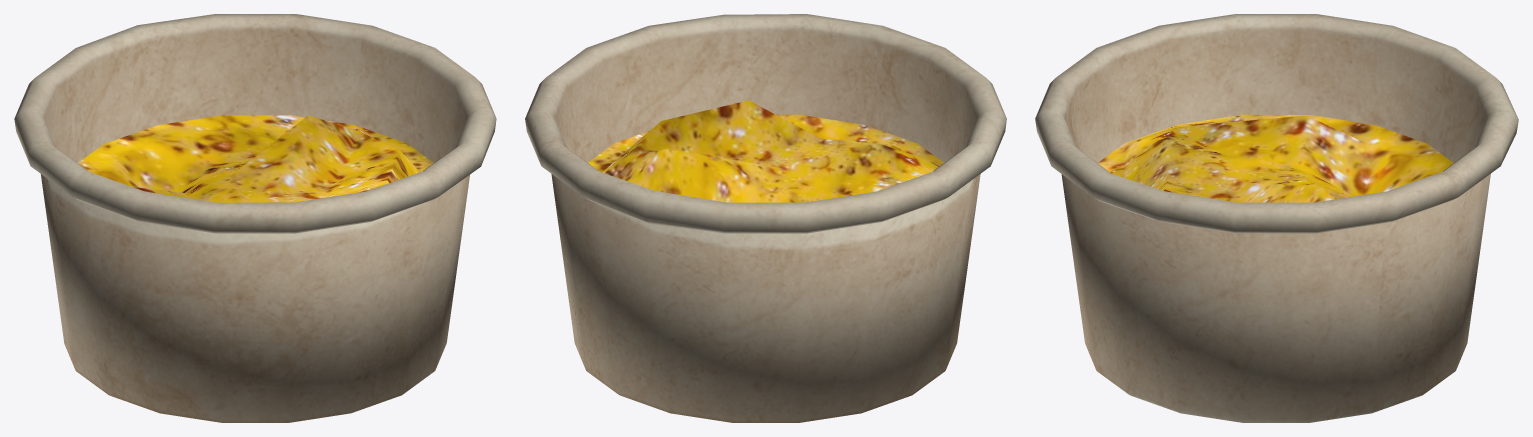
File: spicy_mustard.glb
3 renders of one model, left to right at view 1: azimuth 30°, elevation 25°; view 2: azimuth 150°, elevation 25°; view 3: azimuth 270°, elevation 25°, orthographic.
Parts seen in each view (by area): view 1: Sauce_ranch_sauceMaterial_0; view 2: Sauce_ranch_sauceMaterial_0; view 3: Sauce_ranch_sauceMaterial_0.
Part boxes in pixels (left/top/right/bottom): Sauce_ranch_sauceMaterial_0: left=14, top=14, right=496, bottom=422; Sauce_ranch_sauceMaterial_0: left=525, top=14, right=1006, bottom=422; Sauce_ranch_sauceMaterial_0: left=1035, top=14, right=1518, bottom=422.
Bounding box in the file's own units: 1.49 × 0.806 × 1.51.
1 material, 1 textured.
